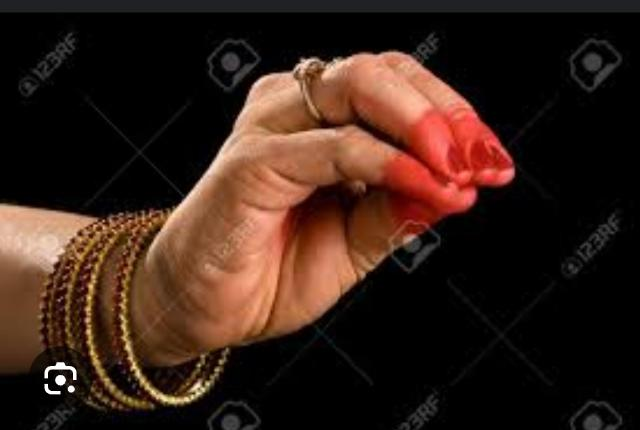mukul: (48, 51, 519, 419)
